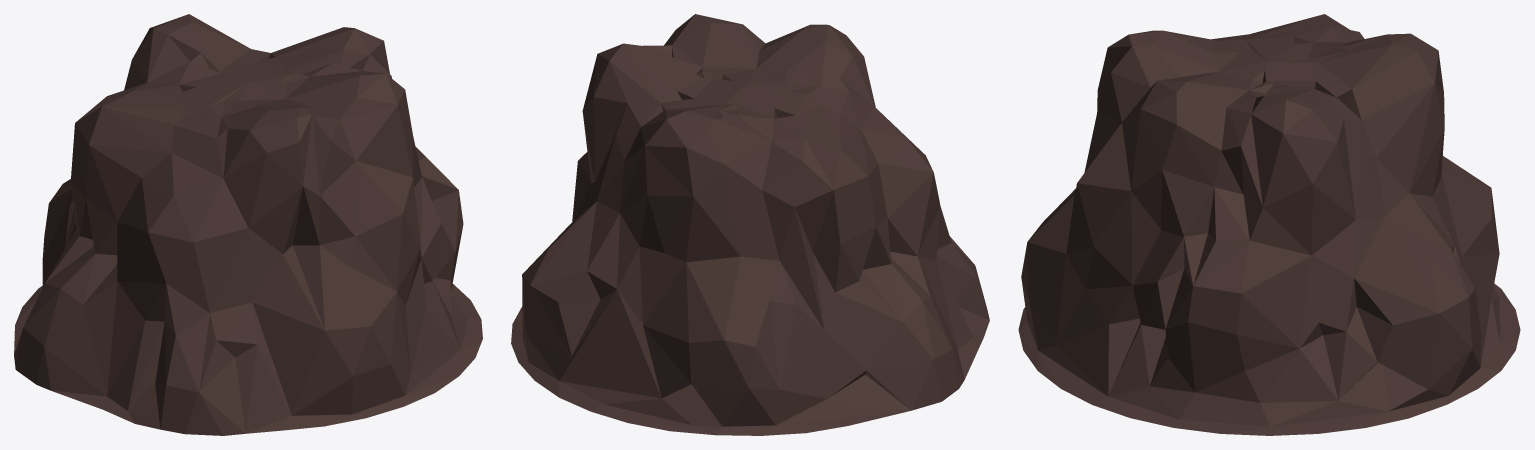
The model's file is montaña-6_lowpoly (1).fbx.
The picture shows the model from 3 angles, left to right: view 1: azimuth 30°, elevation 25°; view 2: azimuth 150°, elevation 25°; view 3: azimuth 270°, elevation 25°; orthographic projection. The views are drawn at different scales.
Parts seen in each view (by area): view 1: Circle.006; view 2: Circle.006; view 3: Circle.006.
Boxes of the visible parts, x1=… form: Circle.006: x1=14, y1=14, x2=482, y2=435; Circle.006: x1=511, y1=14, x2=989, y2=435; Circle.006: x1=1018, y1=14, x2=1520, y2=435.
Size of the model in its own units: 2179 by 1366 by 2120.
